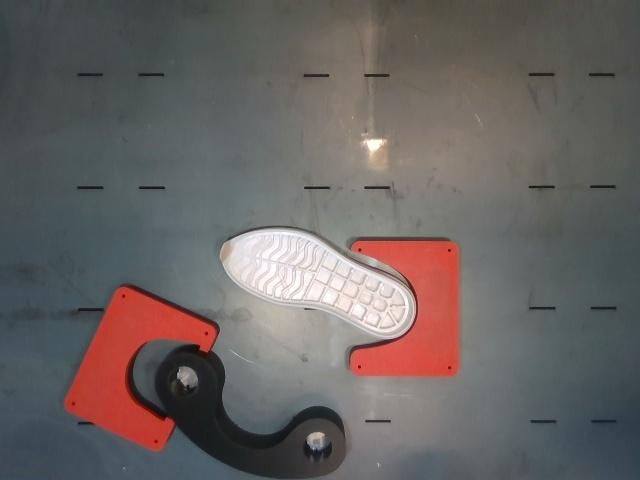shoes: (221, 230, 413, 337)
